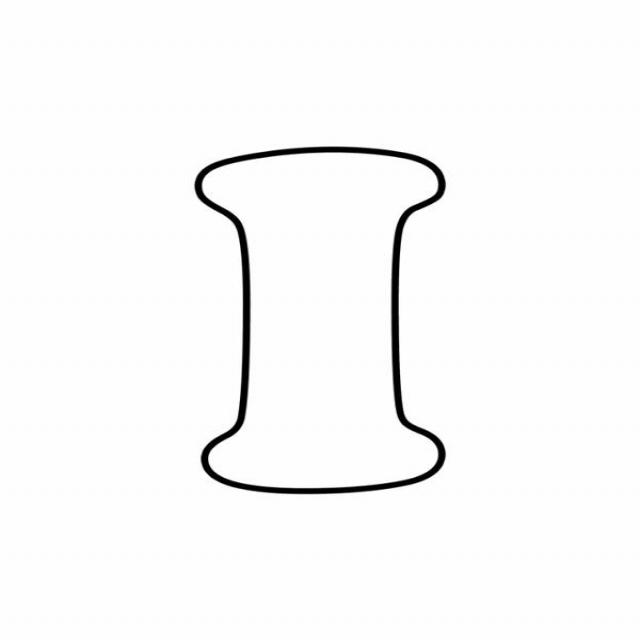I: (113, 87, 487, 540)
